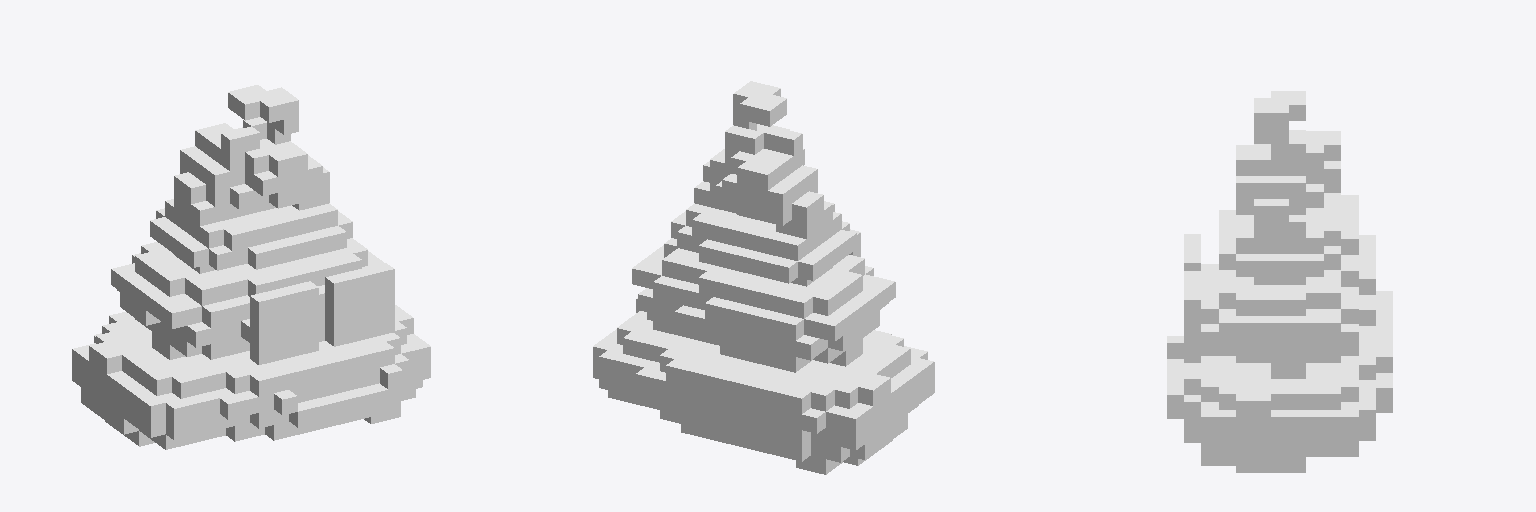
Rendered from PoopEmoji.obj.
The picture shows the model from 3 angles: view 1: azimuth 30°, elevation 25°; view 2: azimuth 150°, elevation 25°; view 3: azimuth 270°, elevation 25°; orthographic projection.
Size of the model in its own units: 18 by 20 by 13.